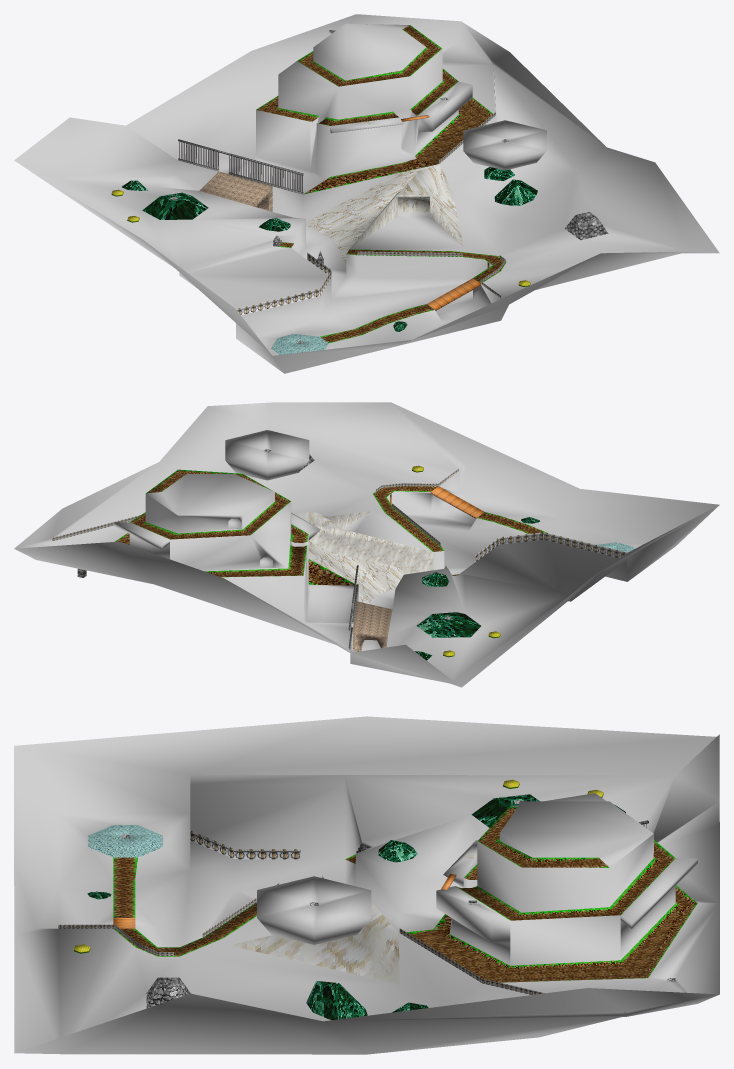
File: battlefield.dae
The picture shows the model from 3 angles, top to bottom: view 1: azimuth 30°, elevation 25°; view 2: azimuth 150°, elevation 25°; view 3: azimuth 270°, elevation 25°; orthographic projection. The views are drawn at different scales.
Parts seen in each view (by area): view 1: bobomb_battlefeild; view 2: bobomb_battlefeild; view 3: bobomb_battlefeild.
Part boxes in pixels (left/top/right/bottom): bobomb_battlefeild: left=14, top=14, right=719, bottom=373; bobomb_battlefeild: left=14, top=402, right=719, bottom=687; bobomb_battlefeild: left=14, top=716, right=719, bottom=1054.
Bounding box in the file's own units: 2.53 × 2.53 × 0.7197.
